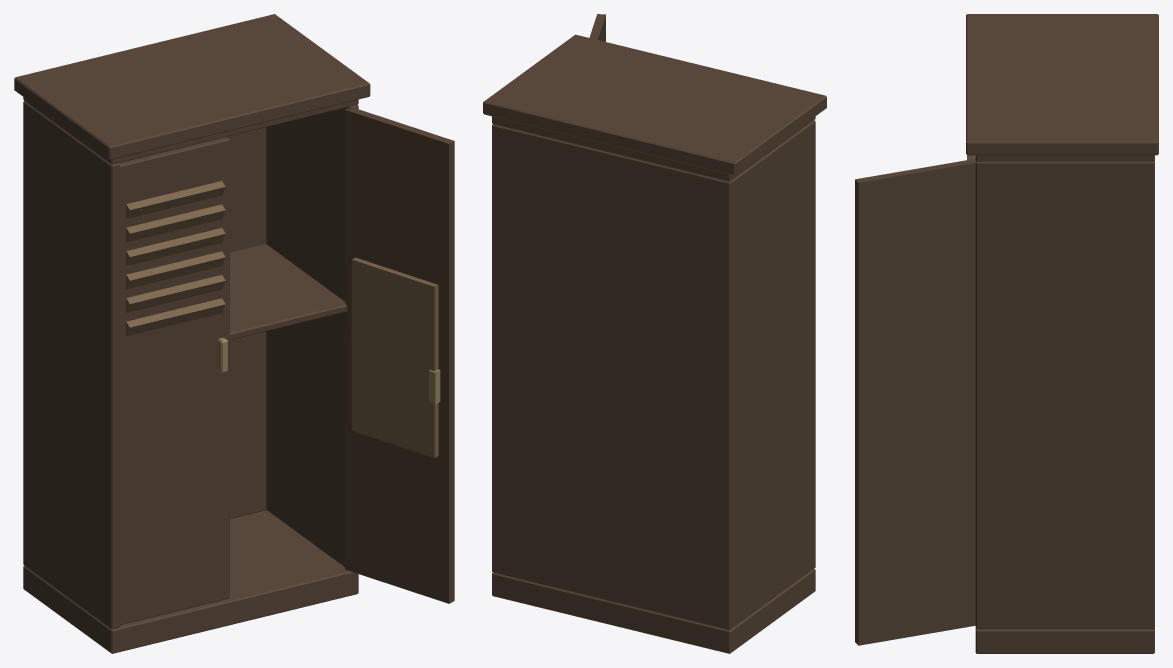
Rendered from HidingSpot_Locker.fbx.
3 views of the same model, side by side, from view 1: azimuth 30°, elevation 25°; view 2: azimuth 150°, elevation 25°; view 3: azimuth 270°, elevation 25° (orthographic). The views are drawn at different scales.
Parts seen in each view (by area): view 1: HidingSpot_Locker; view 2: HidingSpot_Locker; view 3: HidingSpot_Locker.
Part boxes in pixels (x1,y1,x2,y2): HidingSpot_Locker: (14, 14, 454, 653); HidingSpot_Locker: (483, 14, 826, 653); HidingSpot_Locker: (855, 14, 1158, 653).
Bounding box in the file's own units: 125 × 210 × 112.
